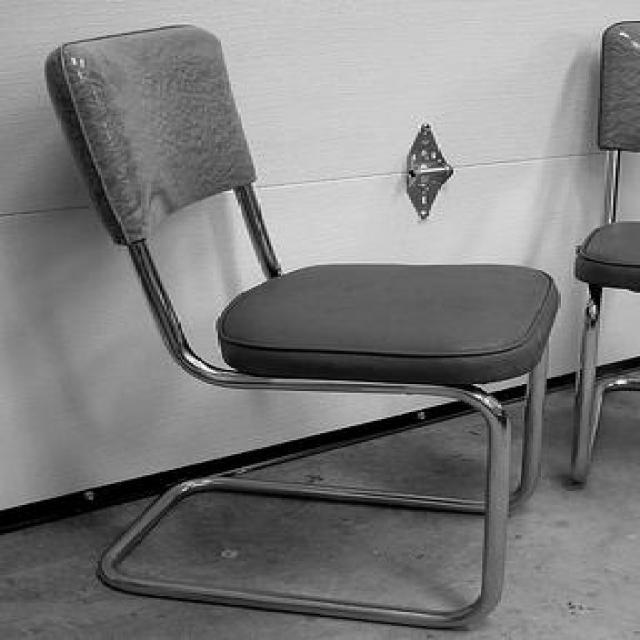chair: (51, 24, 555, 624), (566, 21, 638, 509)
